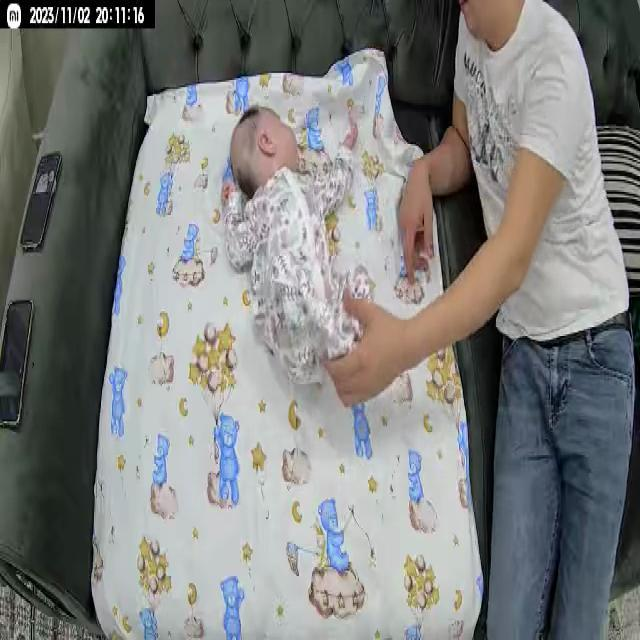baby: (216, 99, 364, 414)
